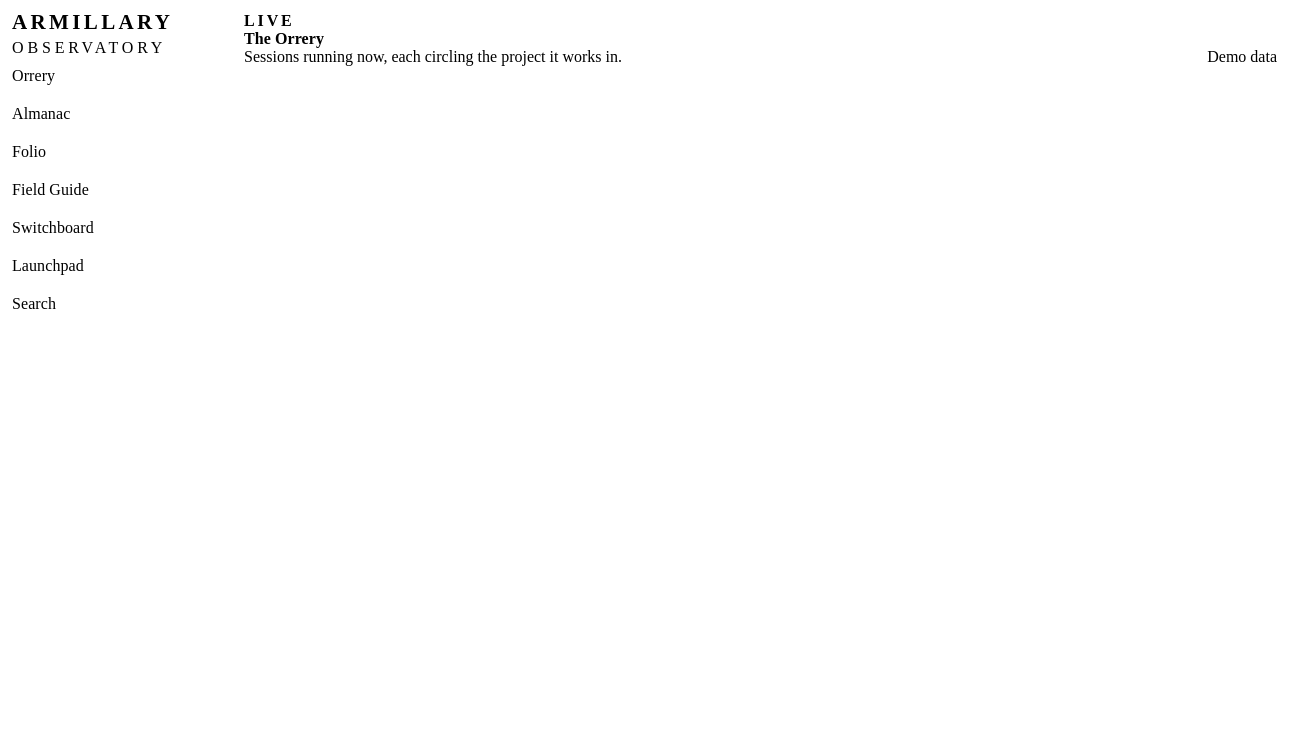
Test: Armillary app shell (DS) › switches views from the rail and marks the active item
Click the button "Almanac": point(128, 114) [12, 96, 244, 132]
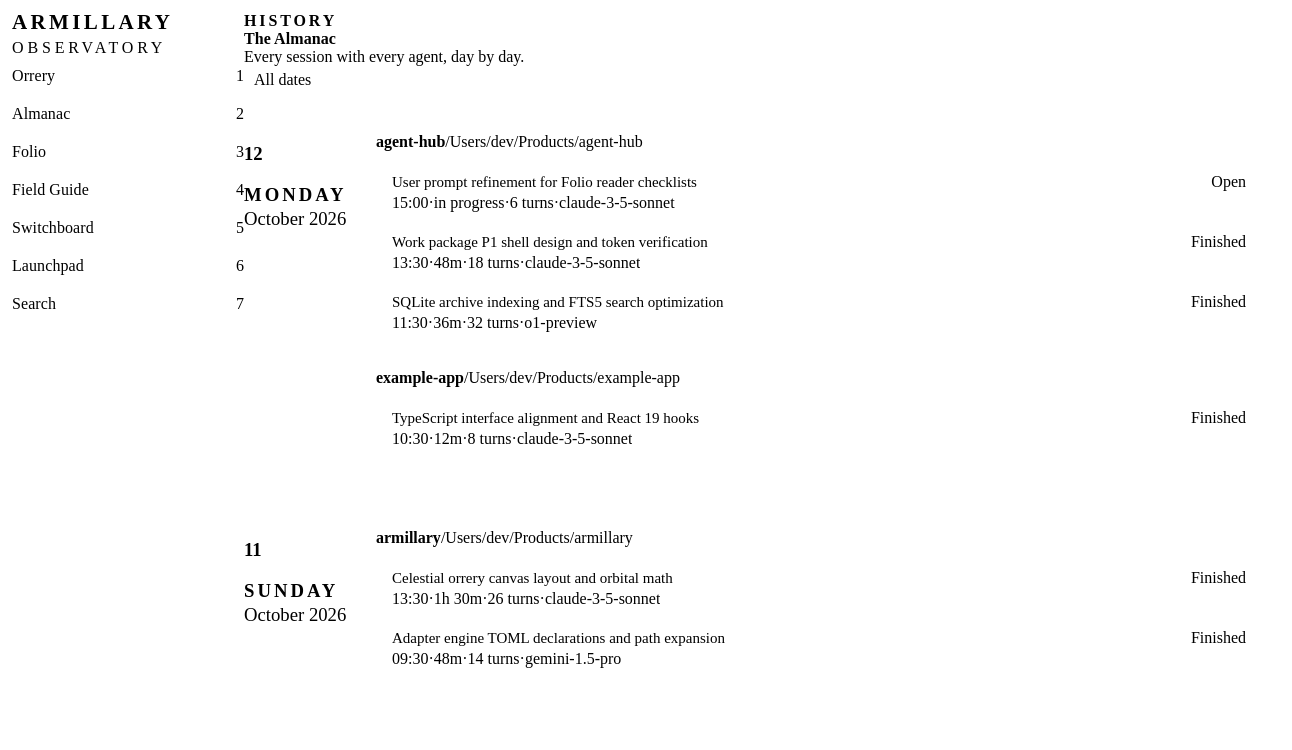
Expected: the heading "The Almanac" is shown, [244, 30, 336, 47]
